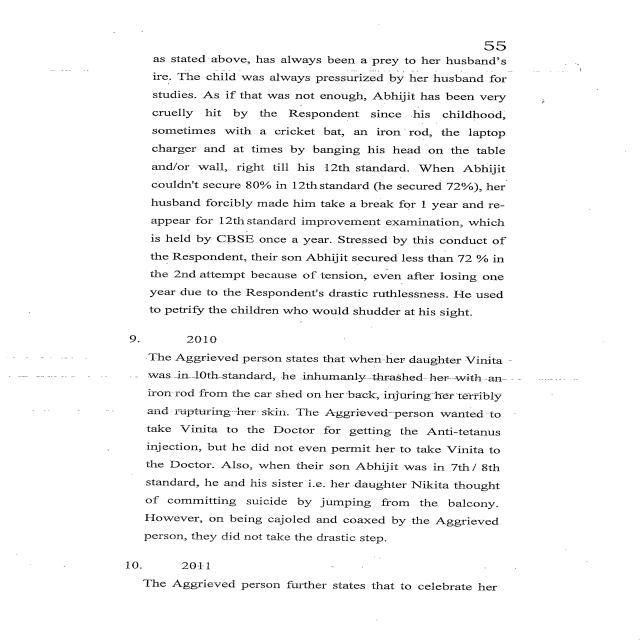page-number: (391, 0, 640, 54)
